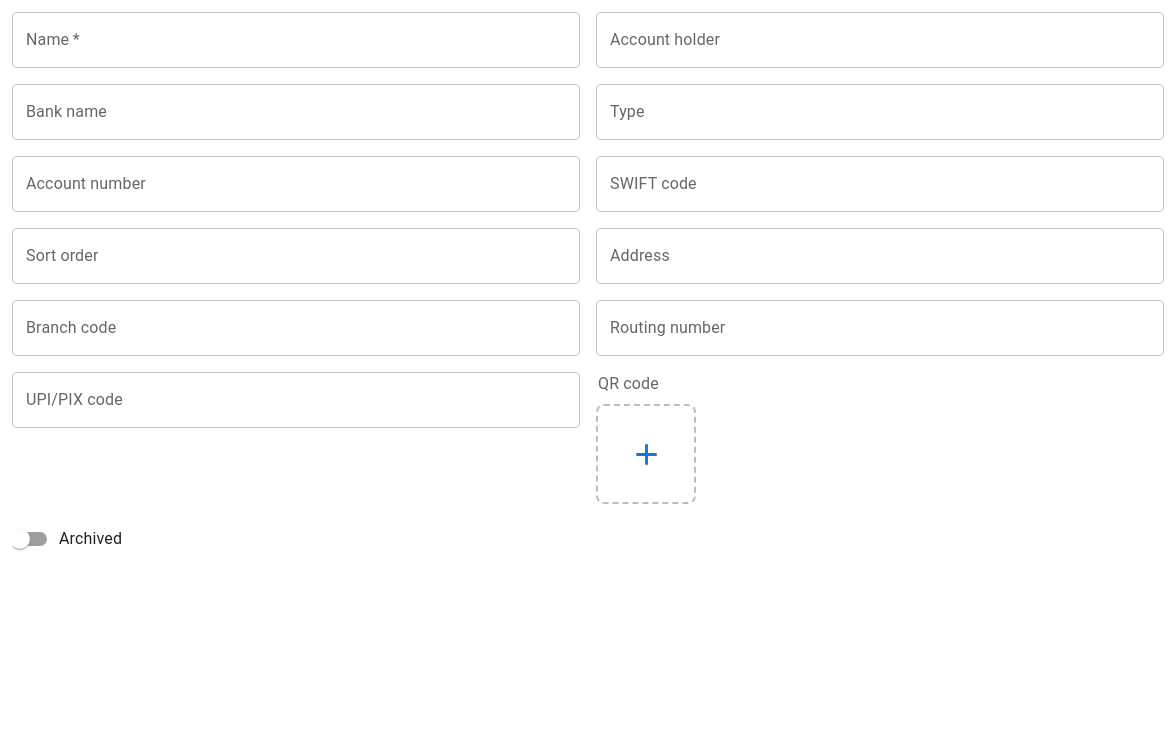
Test: banks Form › shows validation errors for invalid accountNumber, sortOrder, branchCode, routingNumber and upiCode
The image size is (1176, 732).
Step 1. Type "Swedbank" into the field labelled "Name" → (296, 40), box [12,12,580,68]
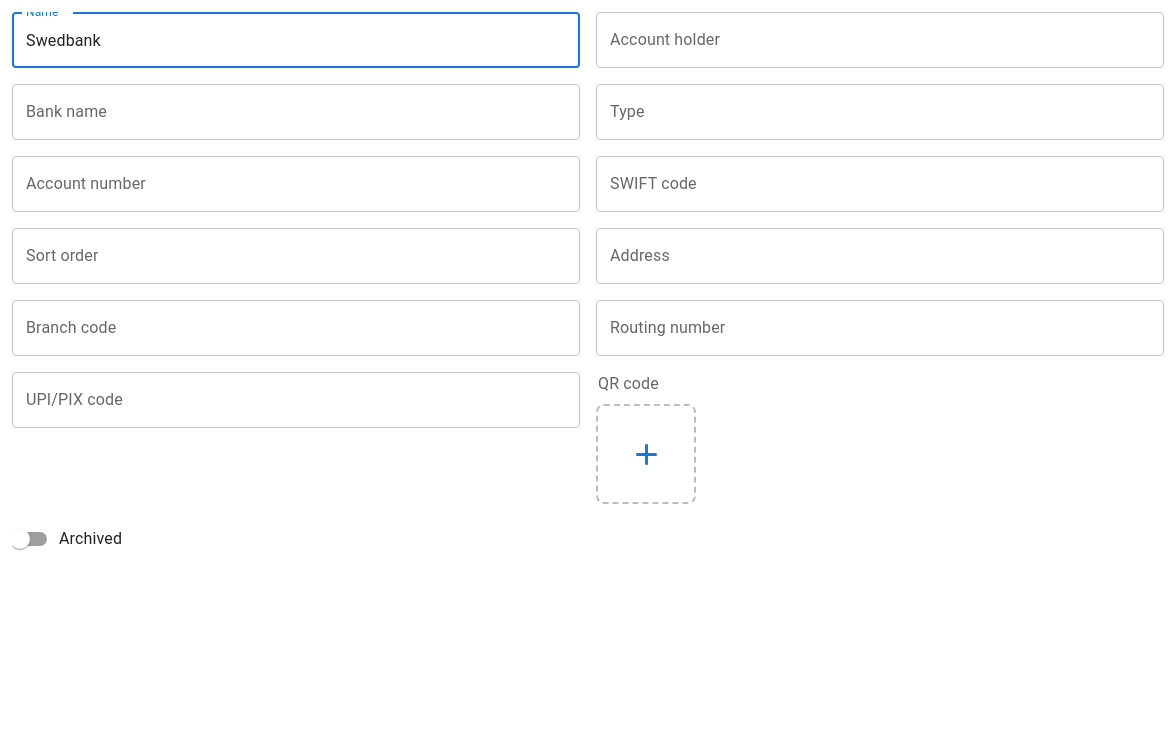
Step 2. Type "!!" into the field labelled "Account number" → (296, 184), box [12,156,580,212]
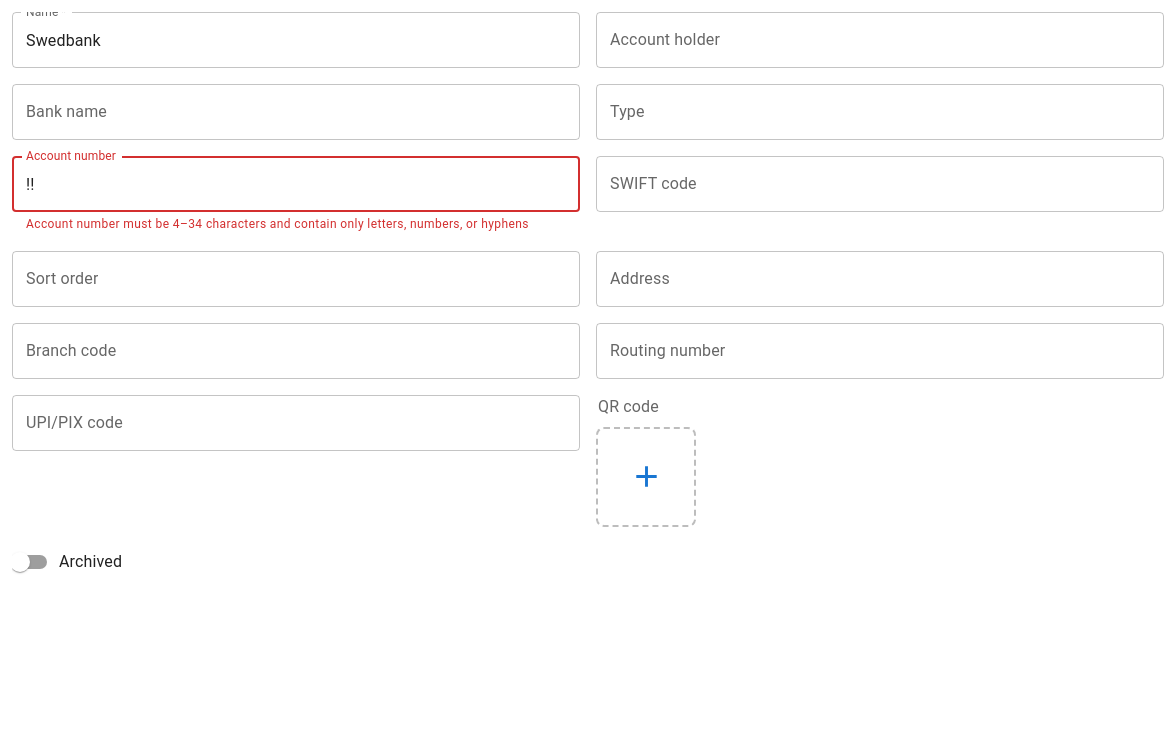
expect the text "Account number must be 4–34 characters and contain only letters, numbers, or hyphens" is shown: met, box [26,217,529,231]
Step 3. Type "1" into the field labelled "Sort order" → (296, 279), box [12,251,580,307]
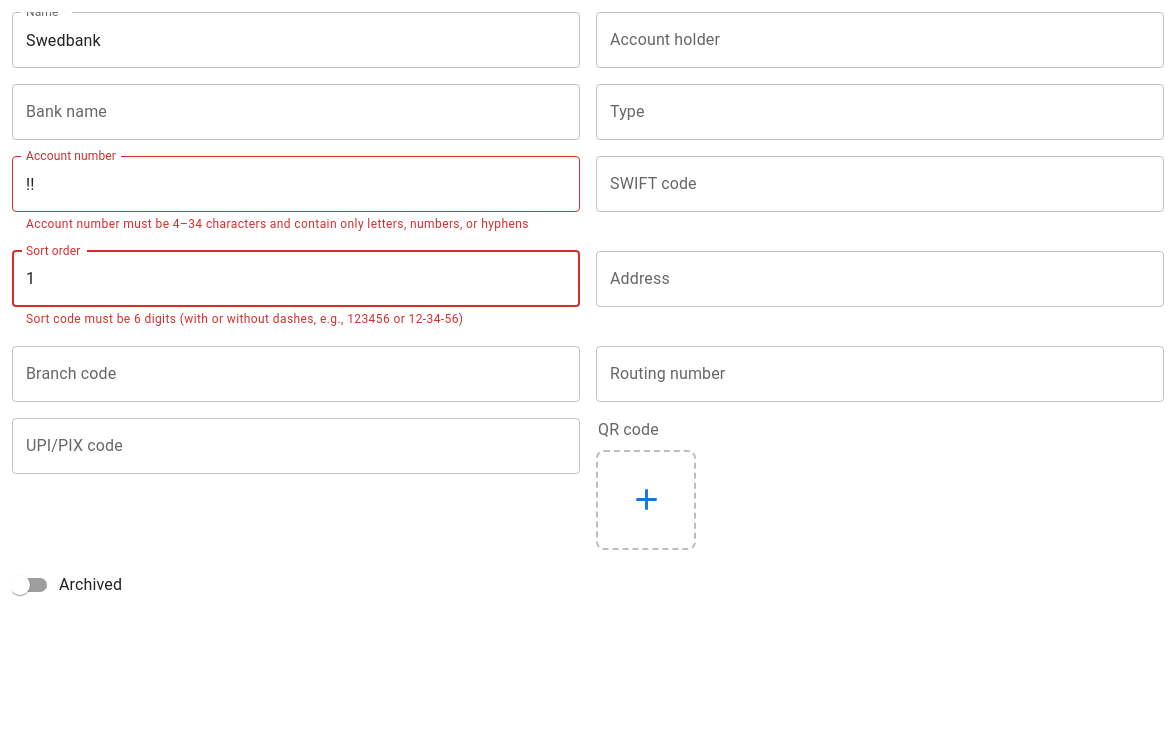
expect the text "Sort code must be 6 digits (with or without dashes, e.g., 123456 or 12-34-56)" is shown: met, box [26,312,463,326]
Step 4. Type "12" into the field labelled "Branch code" → (296, 374), box [12,346,580,402]
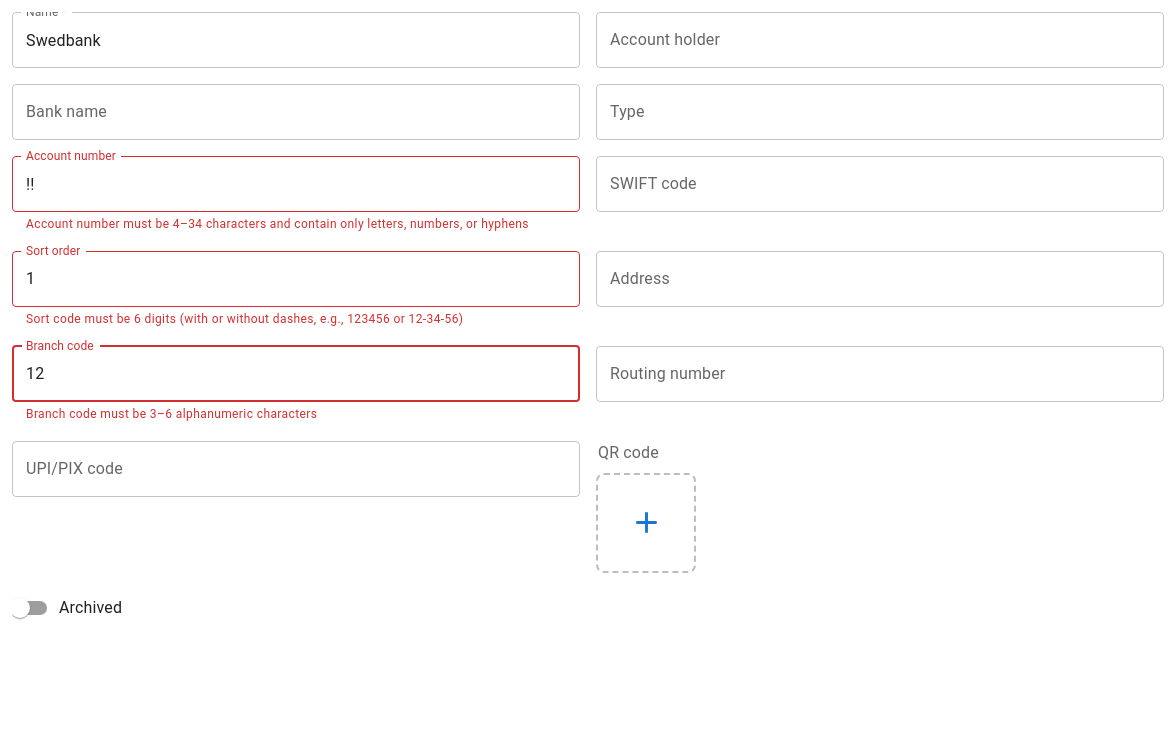
expect the text "Branch code must be 3–6 alphanumeric characters" is shown: met, box [26,407,317,421]
Step 5. Type "123" into the field labelled "Routing number" → (880, 374), box [596,346,1164,402]
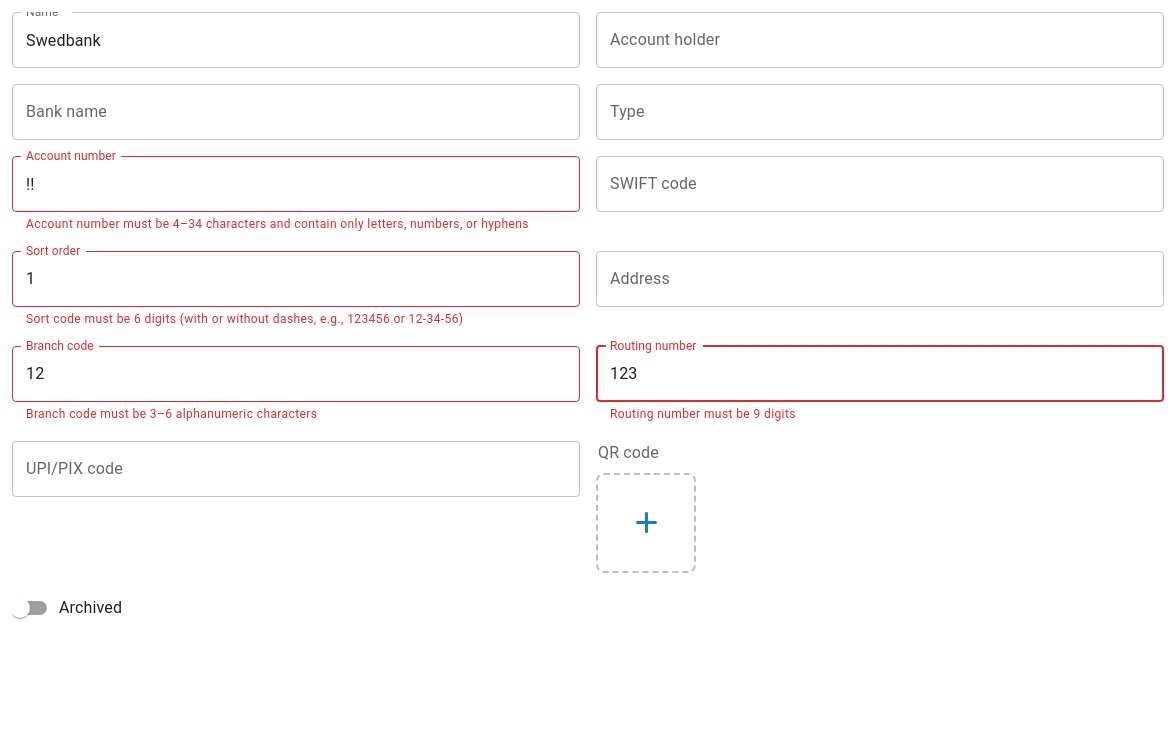
expect the text "Routing number must be 9 digits" is shown: met, box [610,407,796,421]
Step 6. Type "not-a-valid-upi" into the field labelled "UPI/PIX code" → (296, 469), box [12,441,580,497]
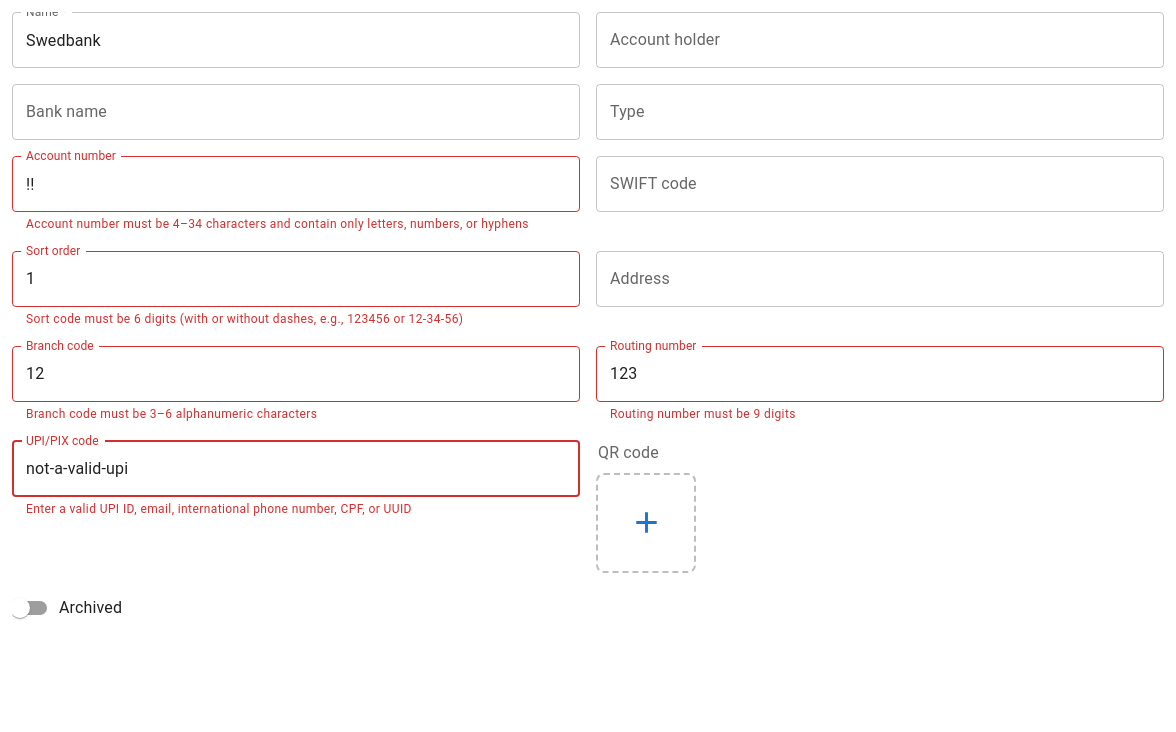
expect the text "Enter a valid UPI ID, email, international phone number, CPF, or UUID" is shown: met, box [26,502,412,516]
